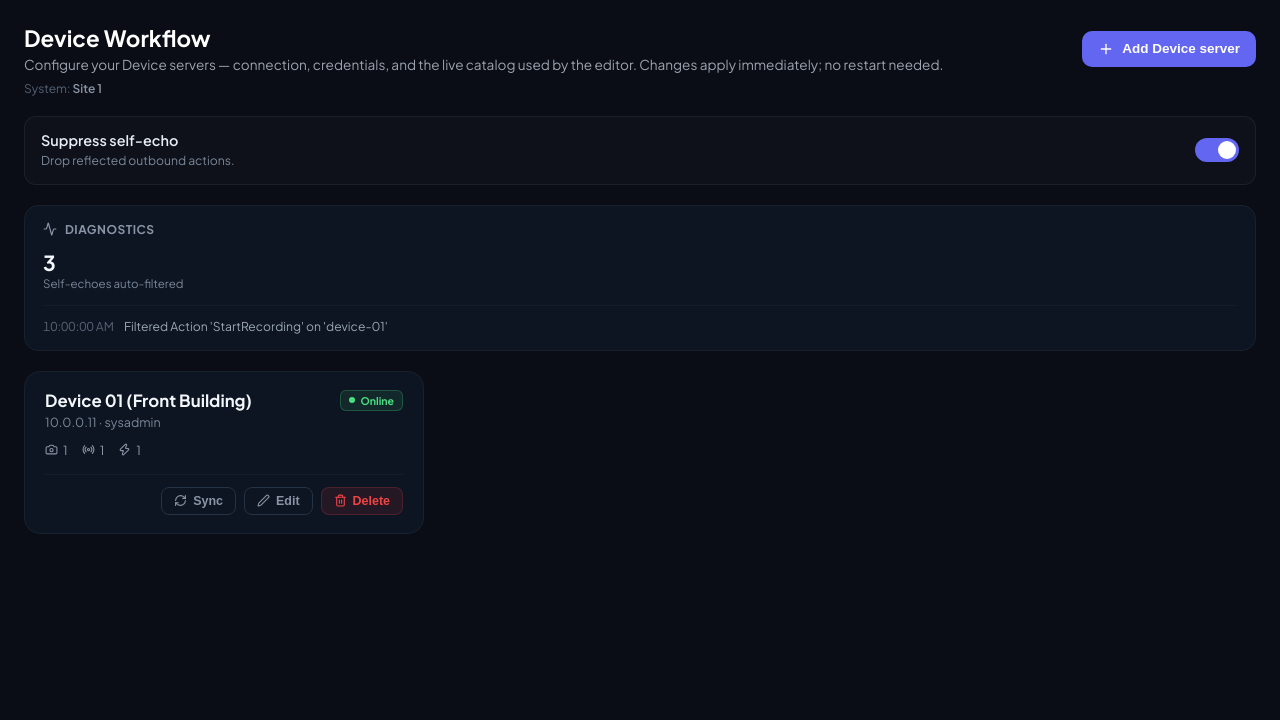
Test: ExternalSystemsManager › treats a numeric Online connectivity from Test Connection as success
Expected: the heading "Device Workflow" is shown, [24,24,211,52]
Click the button with aria-label "Edit Device 01" at [278, 501], box [244,487,313,515]
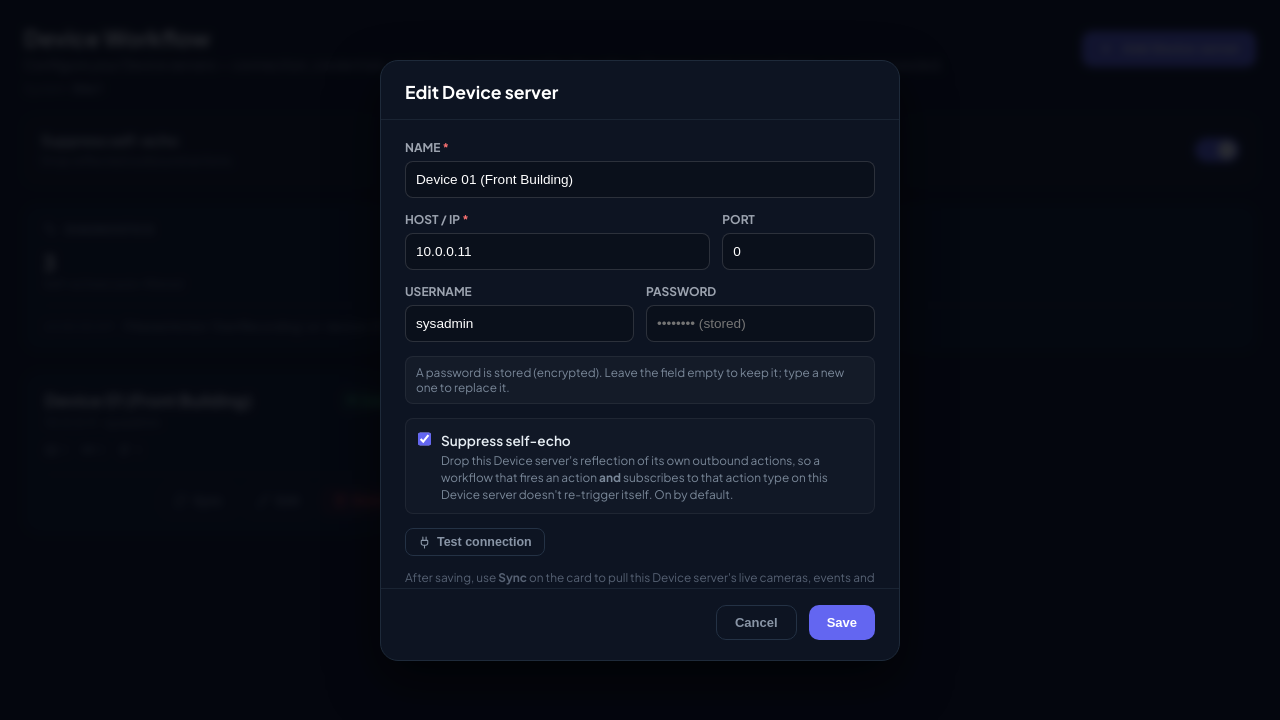
Click the button "Test connection" at [475, 542], box [405,528,545,556]
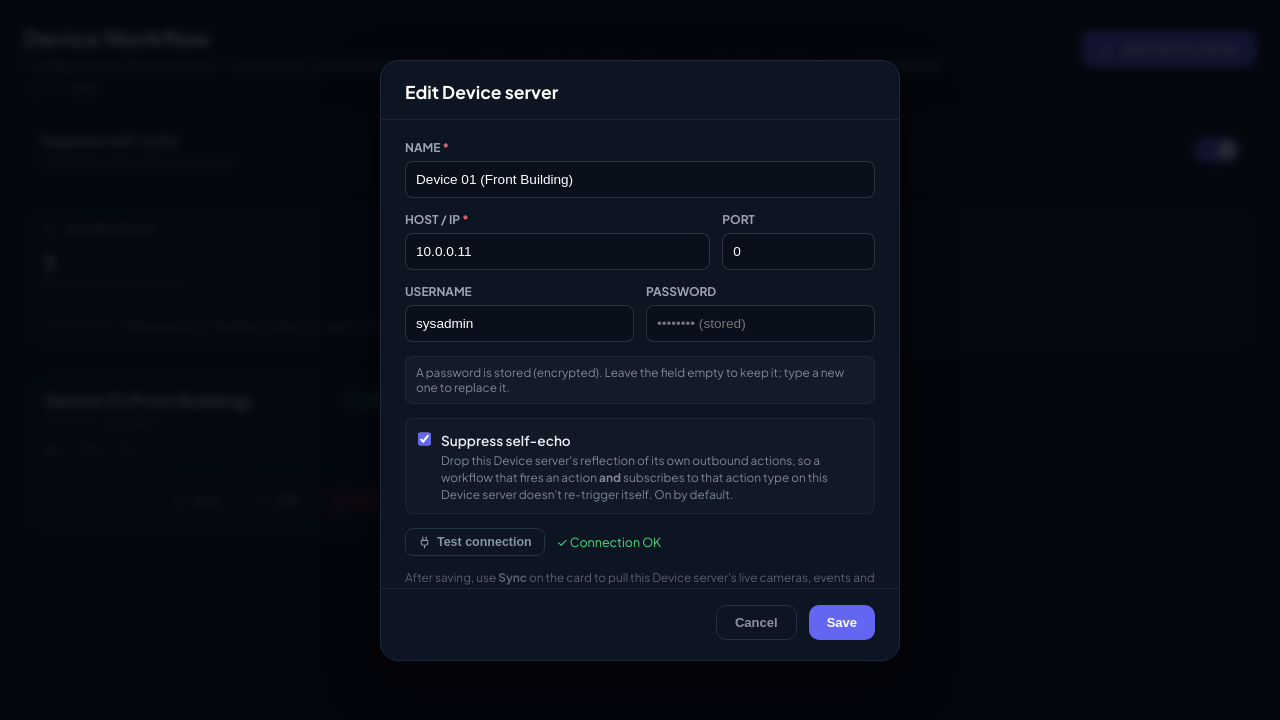
Expected: the text "✓ Connection OK" is shown, [557,534,661,550]
